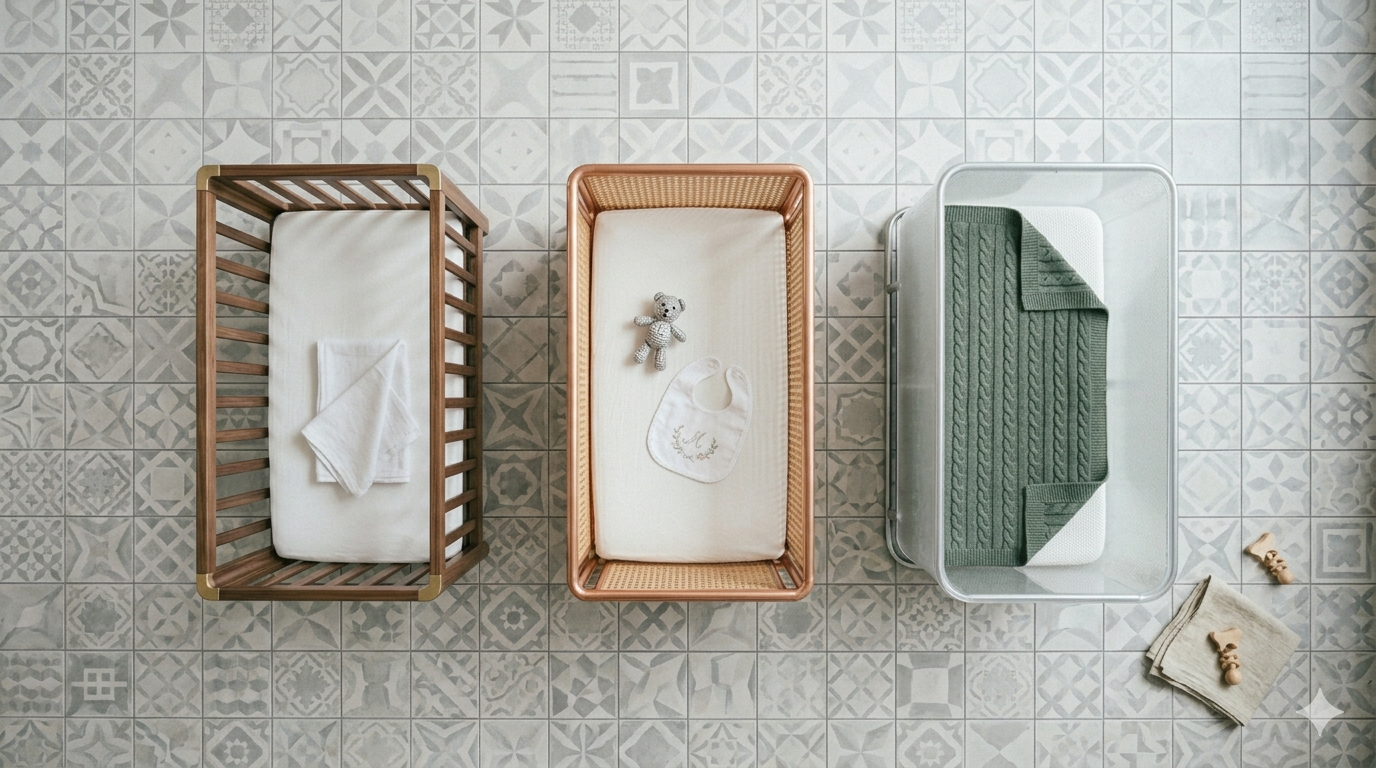crib: (886, 163, 1184, 602), (567, 164, 813, 600), (265, 210, 428, 562)
